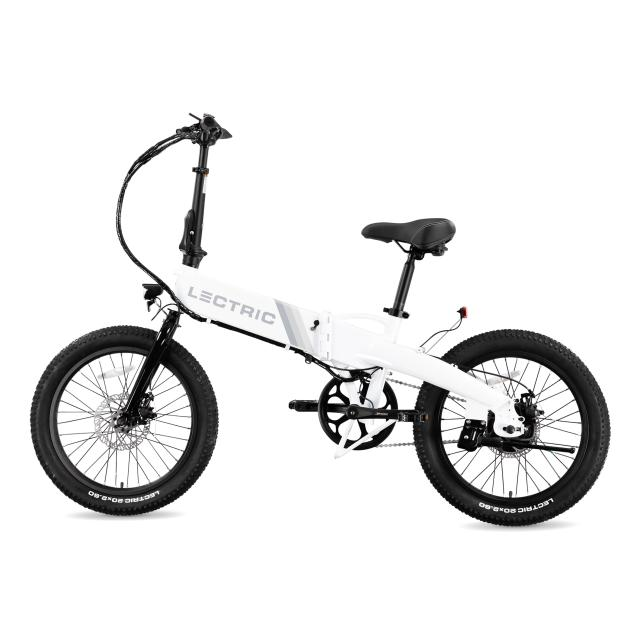folding-bike: (26, 109, 613, 527)
